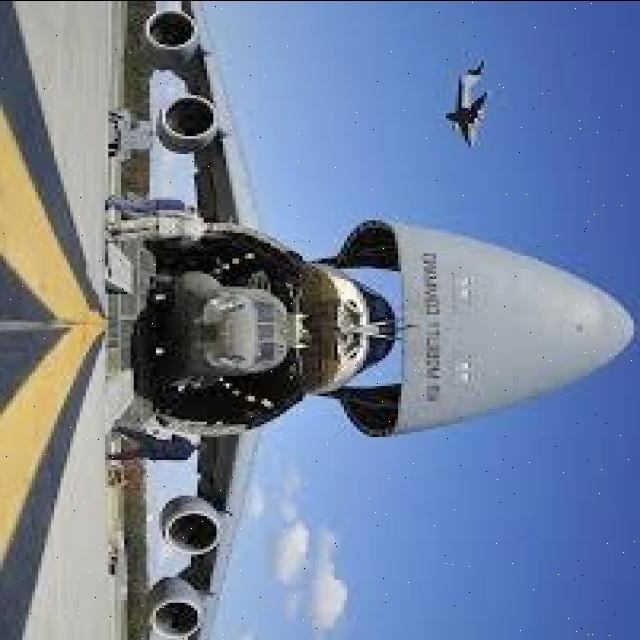C5: (42, 0, 634, 638)
